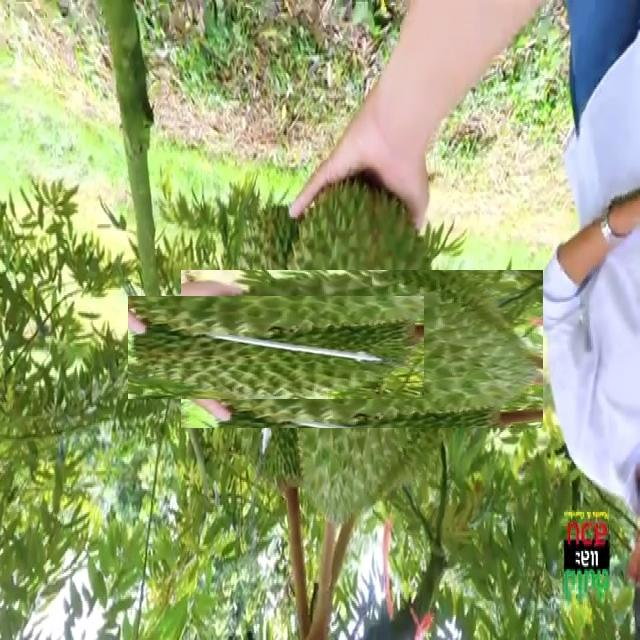durian: (231, 219, 492, 480), (176, 248, 376, 448)
